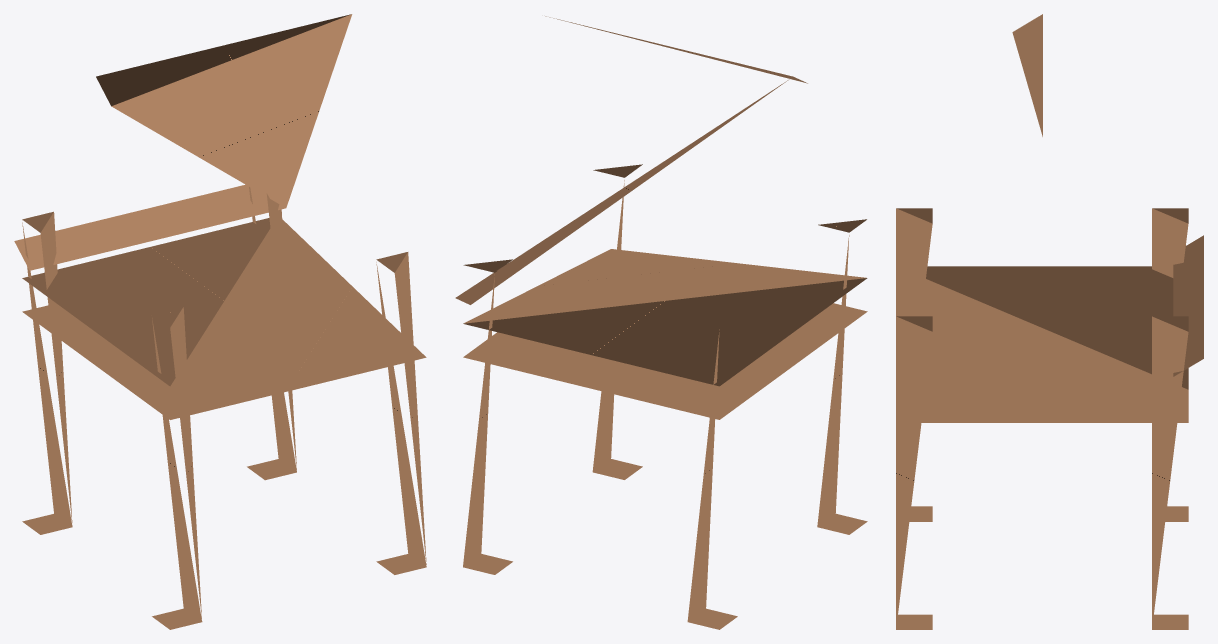
Rendered from chair.glb.
3 views of the same model, side by side, from view 1: azimuth 30°, elevation 25°; view 2: azimuth 150°, elevation 25°; view 3: azimuth 270°, elevation 25° (orthographic).
Parts seen in each view (by area): view 1: Seat, Back, Leg1, Leg2, Leg4, Leg3; view 2: Seat, Back, Leg4, Leg3, Leg2, Leg1; view 3: Seat, Leg1, Leg3, Back, Leg2, Leg4.
Part boxes in pixels (x1,y1,x2,y2): Seat: (22, 218, 426, 419); Back: (14, 14, 352, 270); Leg1: (376, 252, 426, 574); Leg2: (152, 306, 202, 629); Leg4: (22, 211, 72, 534); Leg3: (247, 187, 296, 480); Seat: (463, 249, 867, 419); Back: (455, 16, 807, 304); Leg4: (687, 314, 737, 629); Leg3: (463, 259, 512, 574); Leg2: (817, 219, 867, 534); Leg1: (592, 164, 642, 479); Seat: (896, 266, 1188, 422); Leg1: (896, 316, 932, 629); Leg3: (1152, 316, 1188, 629); Back: (1012, 14, 1203, 376); Leg2: (896, 208, 932, 521); Leg4: (1152, 208, 1188, 521).
Bounding box in the file's own units: 0.8 × 1.49 × 0.8419.
